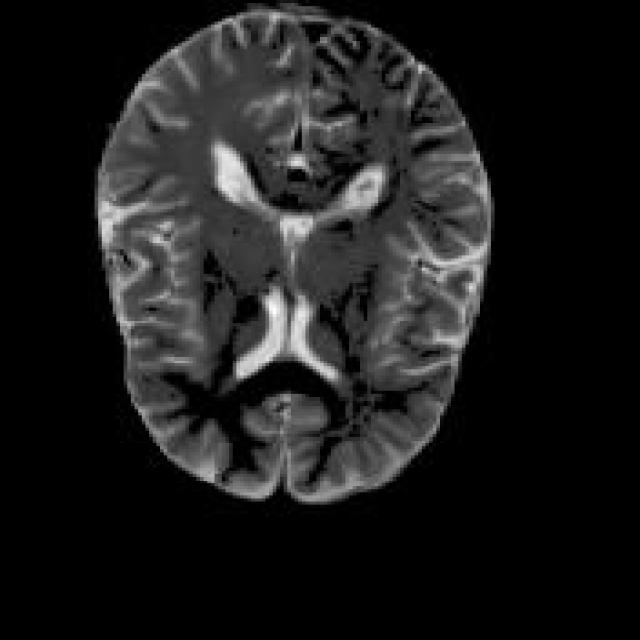CONTROL: (91, 0, 494, 505)
